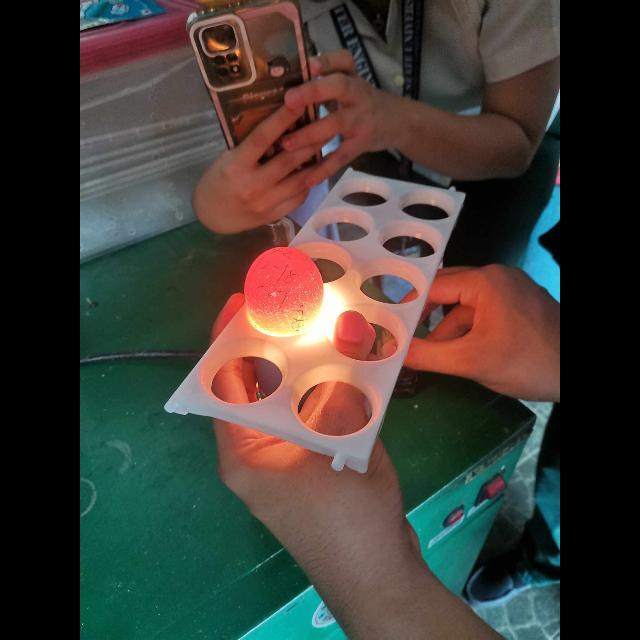Infertile: (244, 244, 322, 328)
